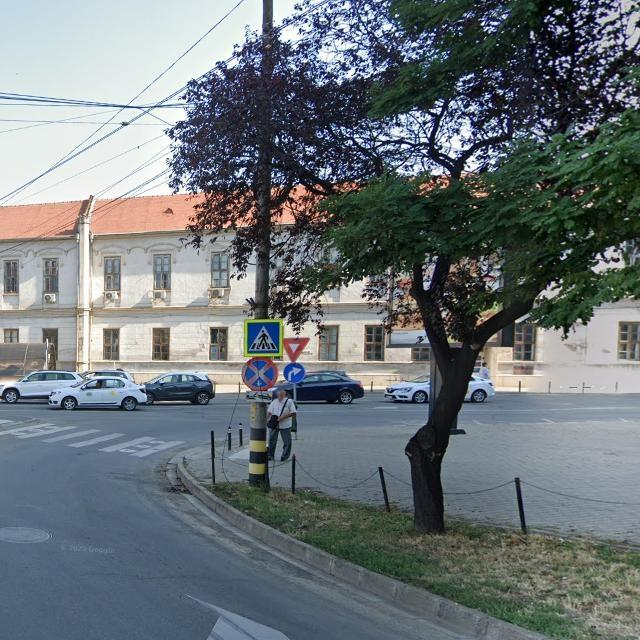forb_waiting: (242, 357, 279, 391)
info_crosswalk: (244, 318, 283, 357)
prio_give_way: (284, 336, 310, 363)
